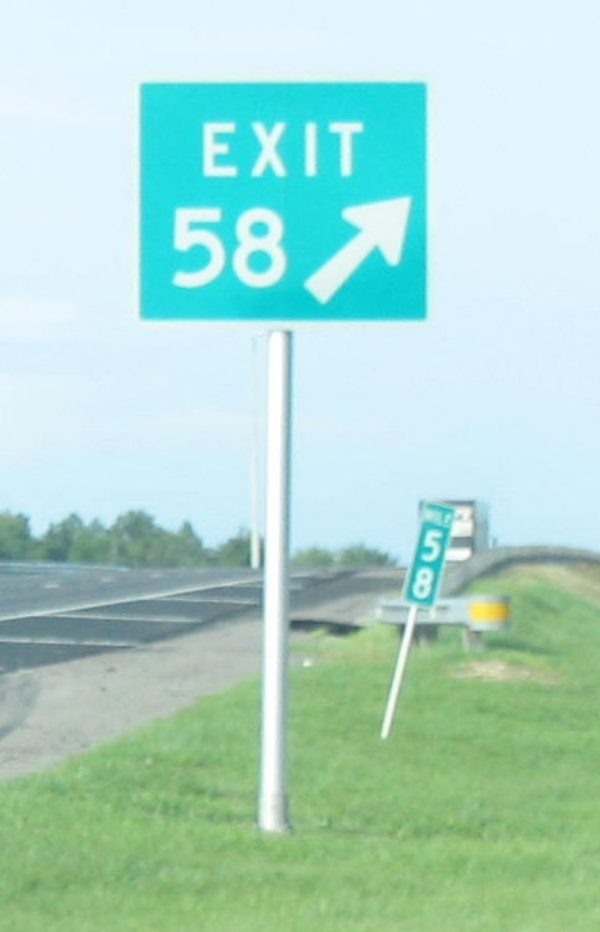text: (177, 206, 192, 288), (193, 206, 208, 288), (209, 206, 224, 288), (225, 206, 240, 288), (241, 206, 256, 288), (257, 206, 272, 288), (273, 206, 288, 288), (433, 525, 447, 602), (209, 121, 224, 178), (225, 121, 240, 178), (241, 121, 256, 178), (257, 121, 272, 178), (273, 121, 288, 178), (289, 121, 304, 178), (305, 121, 320, 178), (321, 121, 336, 178), (337, 121, 352, 178), (353, 121, 364, 178), (426, 525, 432, 602), (201, 121, 208, 178), (172, 206, 176, 288)
